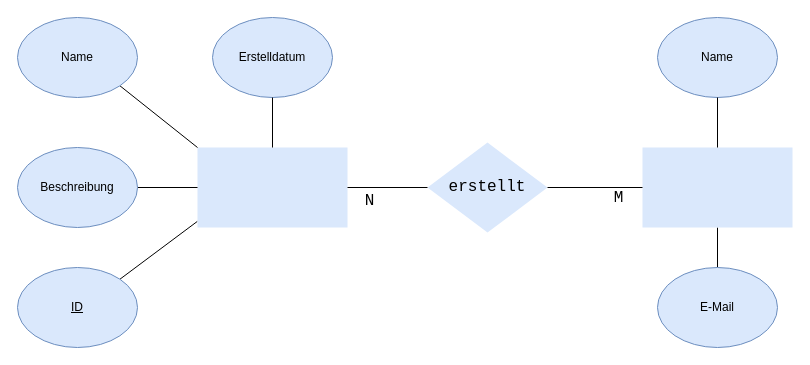
This 810x365 diagram has some shape labels left out. Here are the shapes that lost their labels. From the top down, the centre of each, then its label:
At point (272, 187): "Wunschgerichte".
At point (717, 187): "ErstellerIn".
